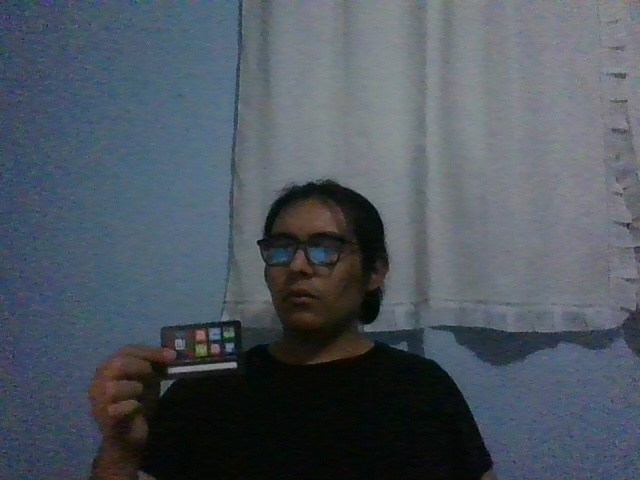tarjeta: (160, 320, 245, 380)
